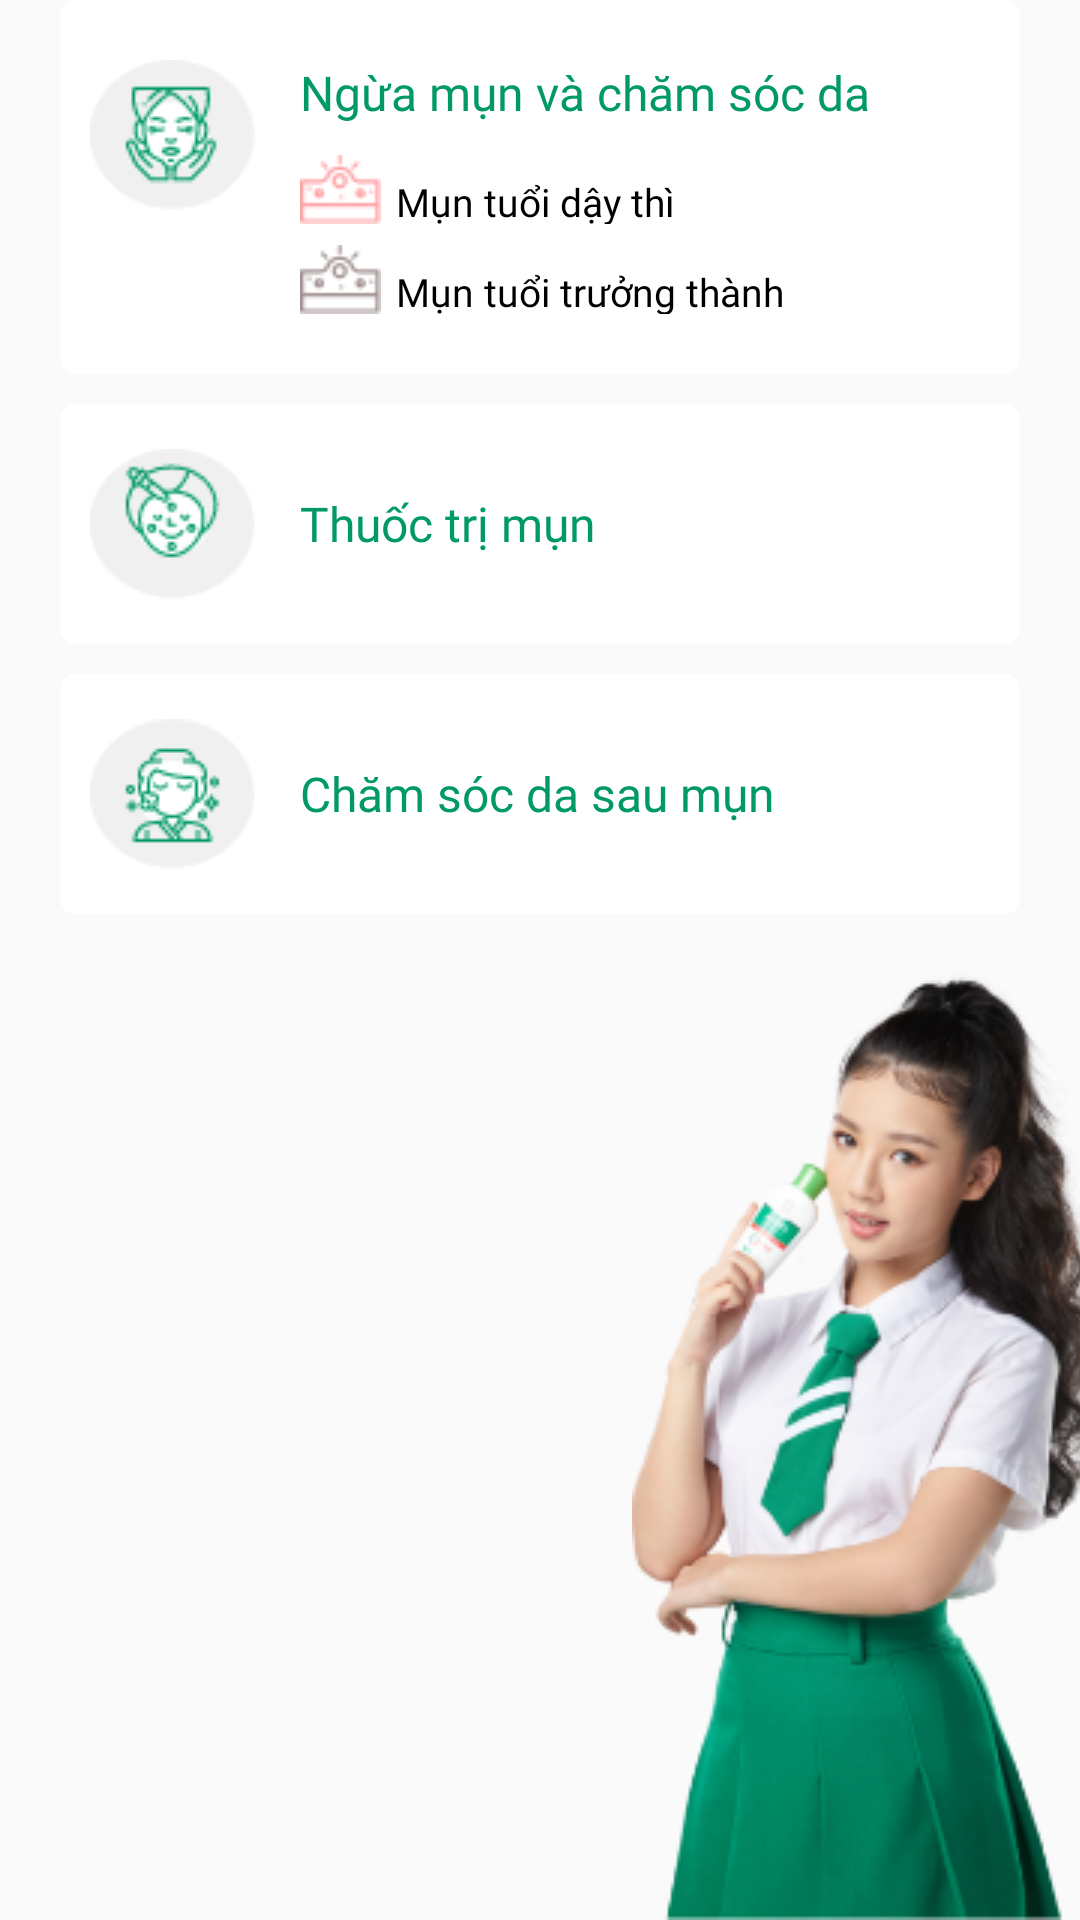

Icons on this 1080 x 1920 Android screen, each with the point to tap as (x,y):
moisturisingface: (171,135)
